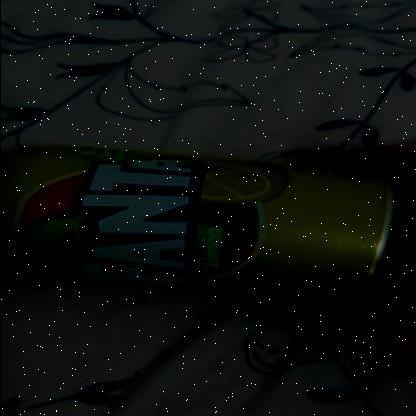Can: (0, 144, 410, 306)
